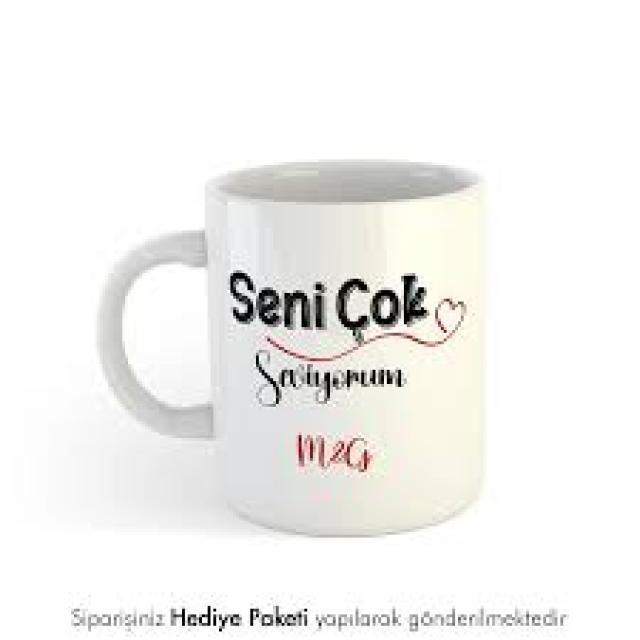taza: (94, 158, 486, 540)
